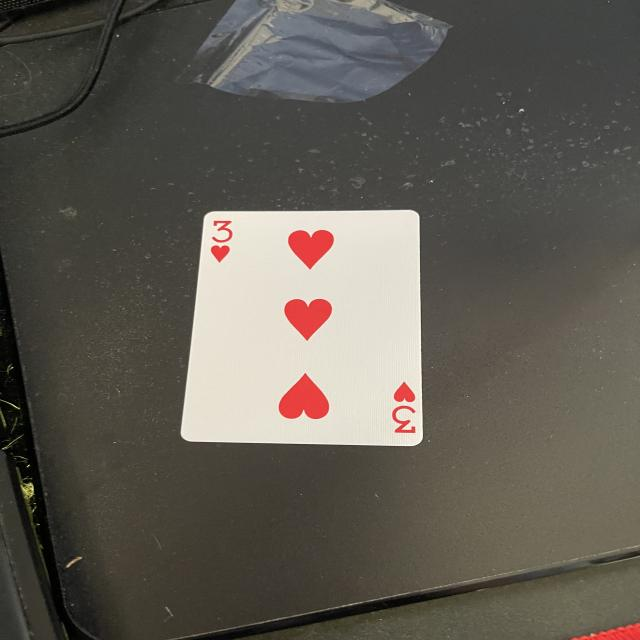3 of hearts: (179, 210, 420, 448)
